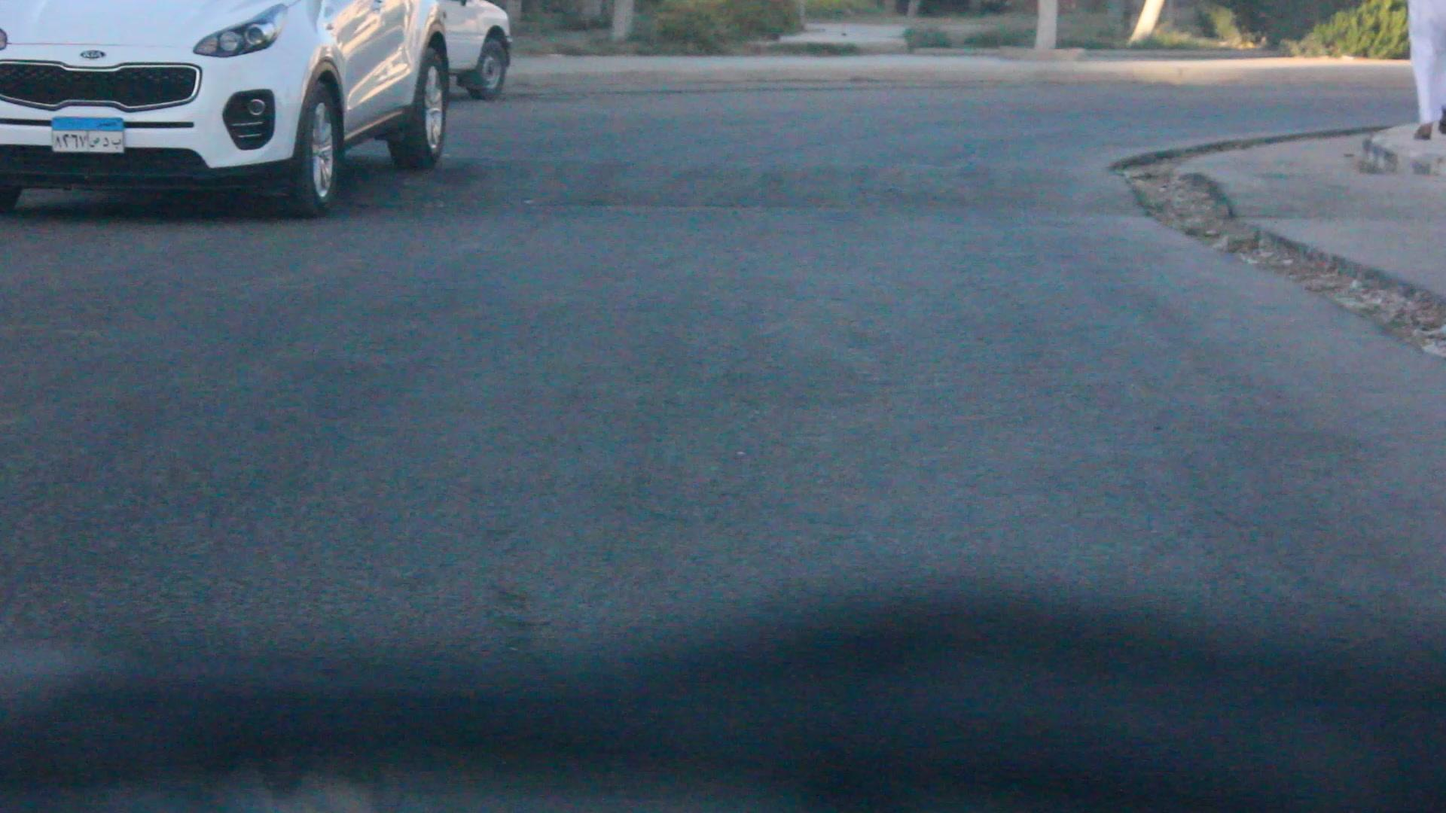Bump: (365, 152, 1156, 213)
